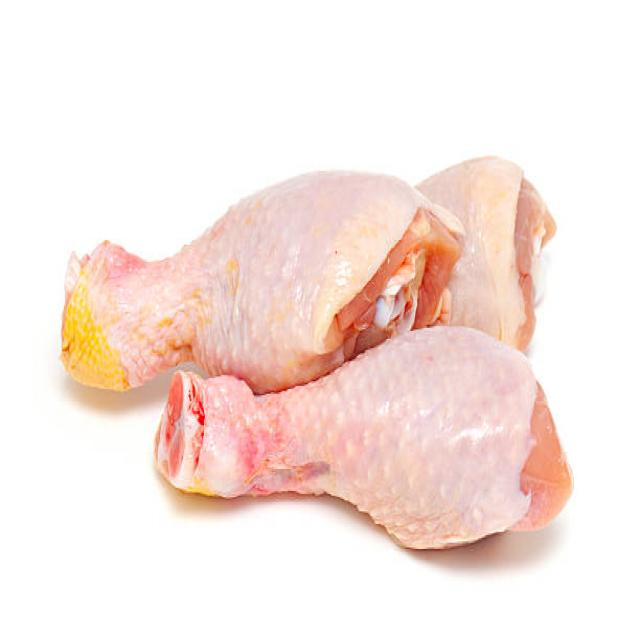chicken thigh: (153, 349, 572, 557), (46, 168, 446, 362)
